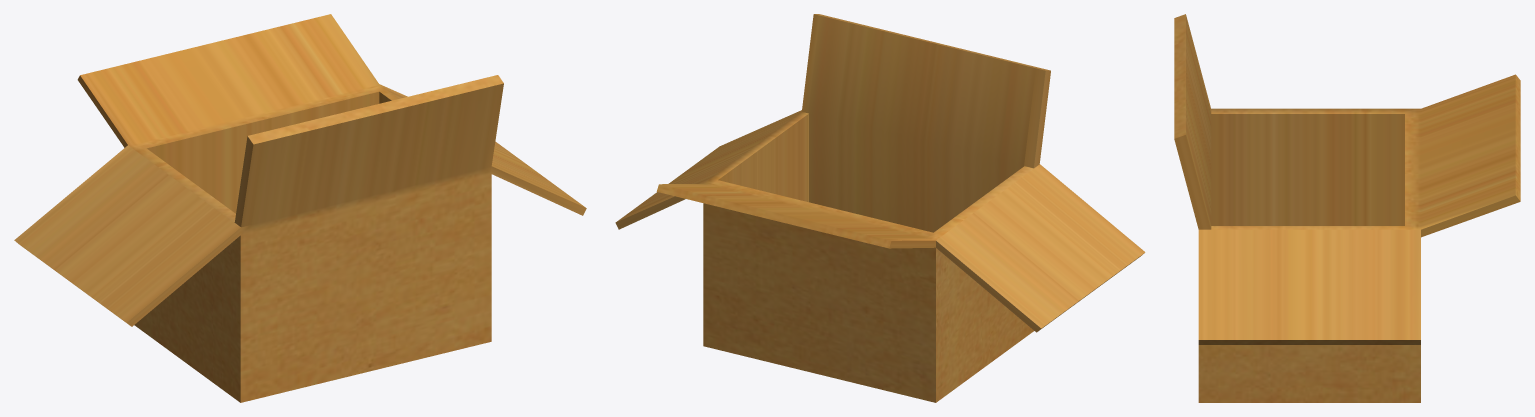
3 views of the same model, side by side, from view 1: azimuth 30°, elevation 25°; view 2: azimuth 150°, elevation 25°; view 3: azimuth 270°, elevation 25° (orthographic). The views are drawn at different scales.
Visible parts, largest first — view 1: pCube1; view 2: pCube1; view 3: pCube1.
Part boxes in pixels (<box>): pCube1: <box>14,14,586,402</box>; pCube1: <box>615,14,1145,402</box>; pCube1: <box>1174,14,1520,402</box>.
Bounding box in the file's own units: 2.62 × 1.48 × 1.73.
1 material, 1 textured.
